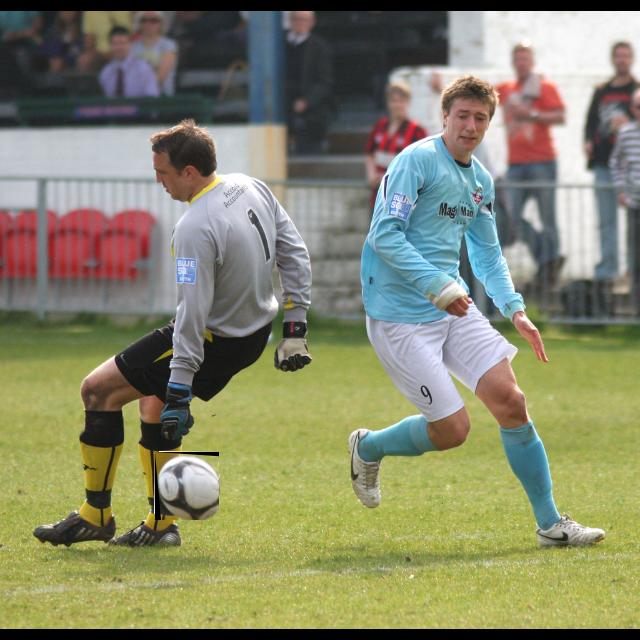Football: (155, 452, 219, 520)
